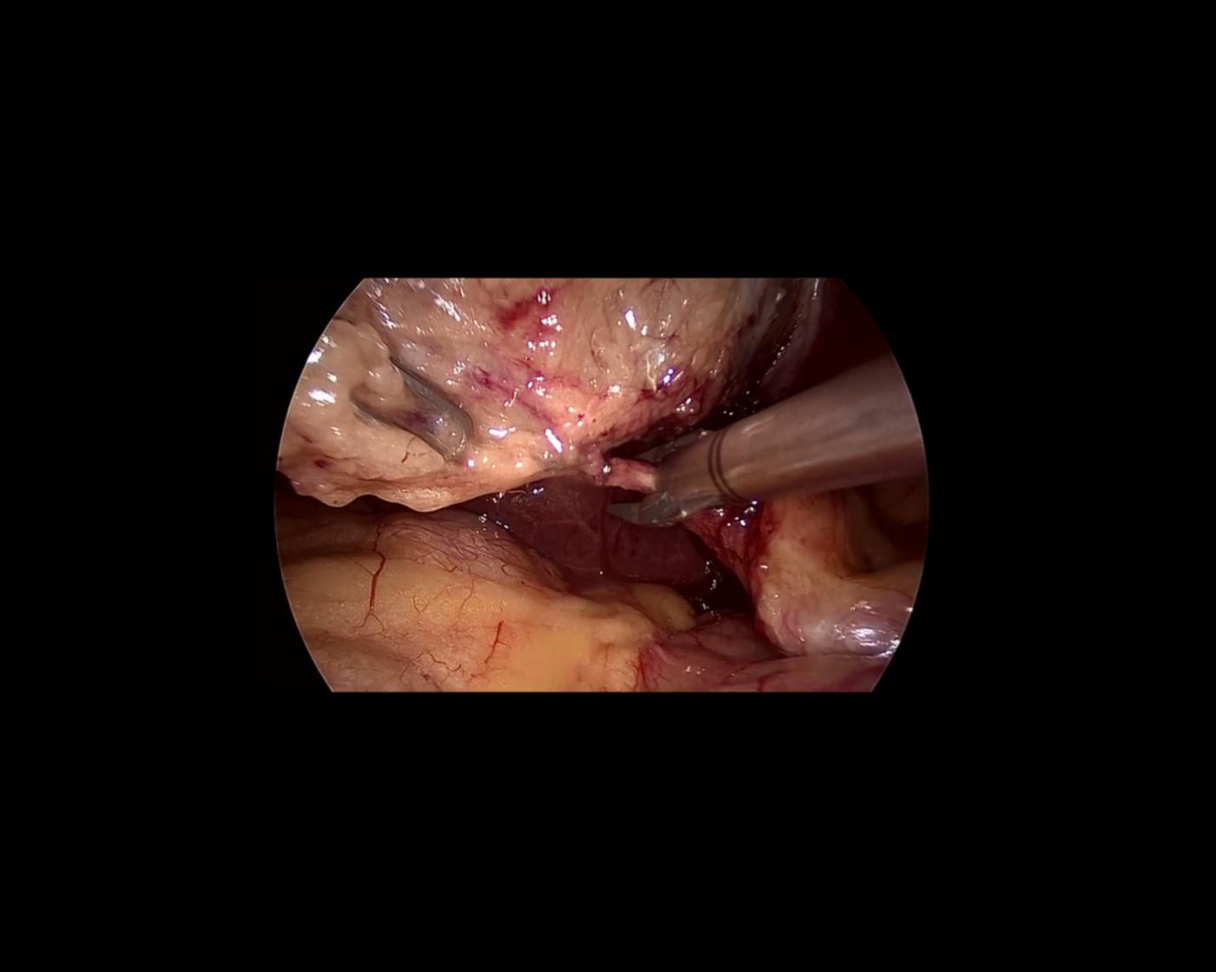Forceps: (297, 324, 491, 474)
Gallbladder: (276, 278, 775, 511)
Liver: (461, 453, 752, 614), (676, 256, 885, 422)
